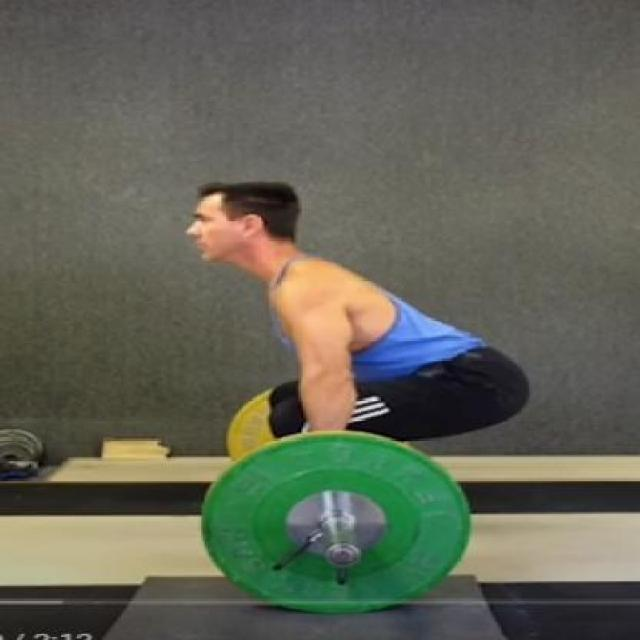barbell: (184, 423, 486, 621)
